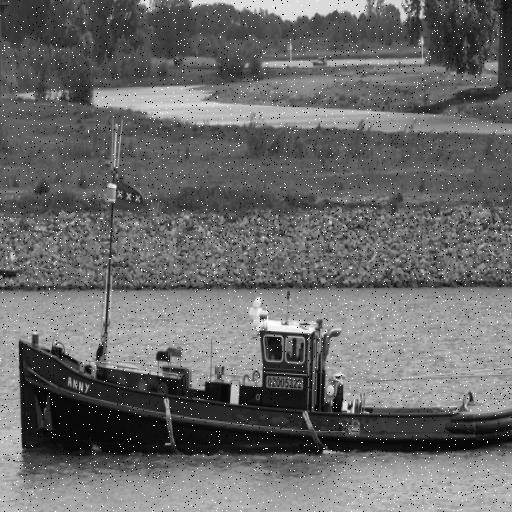tugboat: (15, 108, 512, 477)
